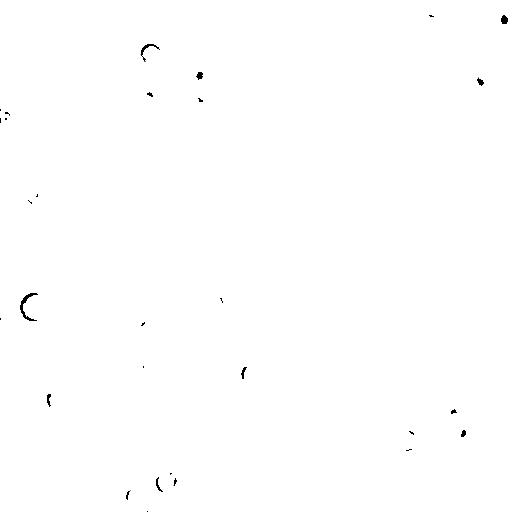micro-algae: (416, 398, 487, 465), (316, 398, 367, 452), (184, 56, 219, 93), (439, 413, 475, 445), (463, 63, 495, 97), (153, 73, 184, 107), (18, 289, 49, 323), (433, 59, 465, 91), (191, 5, 222, 36), (415, 0, 451, 25), (132, 69, 163, 98), (271, 175, 301, 203), (487, 0, 511, 33), (133, 398, 161, 425), (478, 335, 502, 365), (218, 281, 241, 312), (491, 26, 512, 58), (395, 497, 443, 511), (137, 332, 163, 355), (392, 429, 419, 451), (125, 483, 149, 507), (291, 485, 315, 509), (242, 135, 267, 158), (298, 311, 323, 334), (377, 319, 403, 341), (45, 387, 65, 415), (217, 35, 238, 61), (197, 86, 221, 108), (139, 42, 160, 67), (52, 406, 71, 433), (11, 146, 34, 167), (155, 471, 178, 492), (377, 165, 397, 189), (367, 201, 387, 225), (241, 361, 260, 386), (262, 456, 284, 477), (129, 285, 151, 305), (266, 300, 285, 321), (135, 455, 153, 477), (24, 186, 39, 207), (131, 309, 148, 326), (126, 359, 145, 371), (0, 107, 12, 123), (144, 503, 163, 511)
